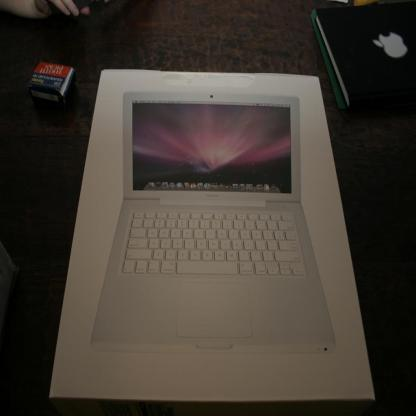board: (76, 55, 348, 380)
